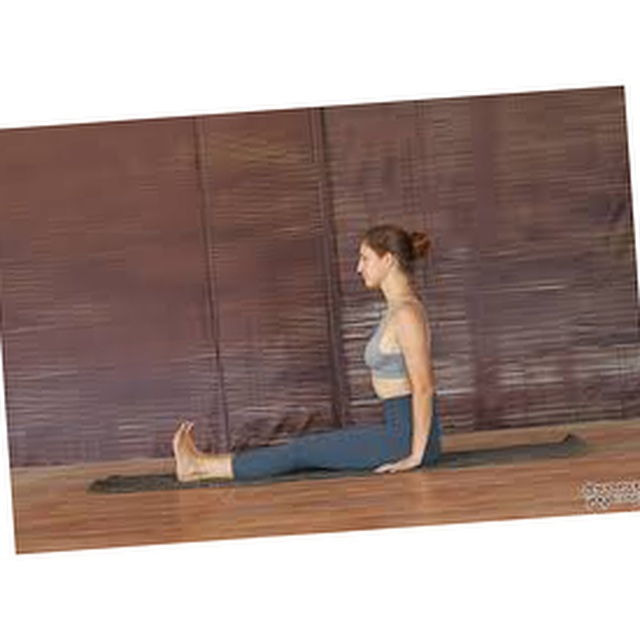Staff_Pose: (173, 224, 439, 485)
